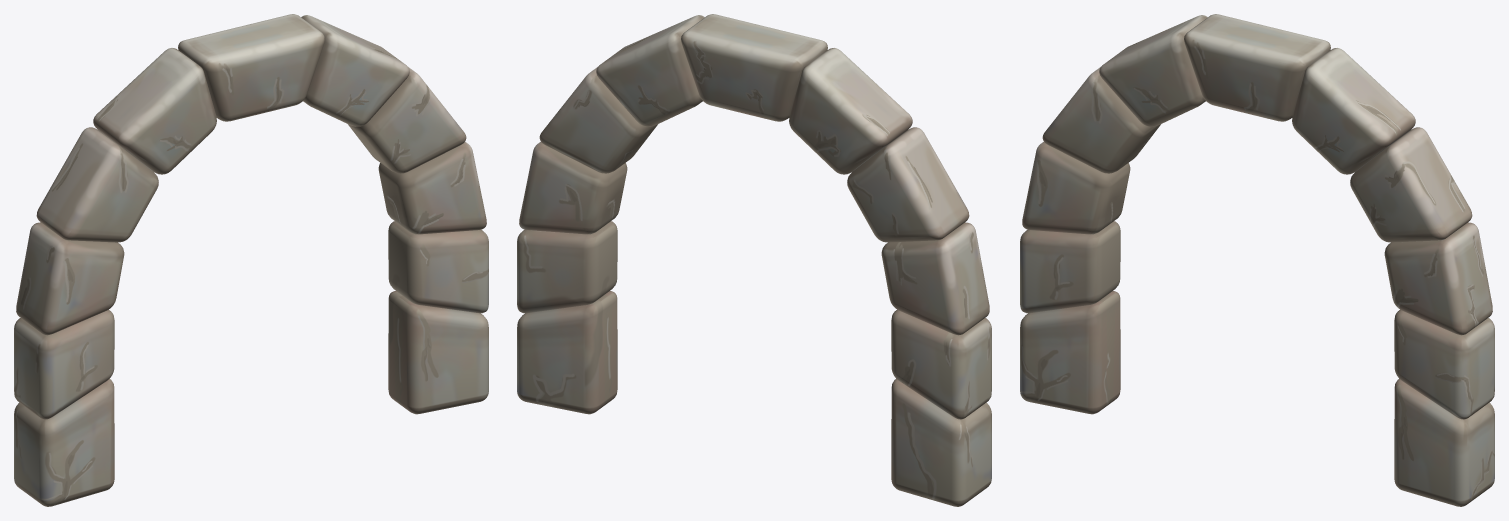
File: arc.glb
3 renders of one model, left to right at view 1: azimuth 30°, elevation 25°; view 2: azimuth 150°, elevation 25°; view 3: azimuth 330°, elevation 25°, orthographic.
Parts seen in each view (by area): view 1: arc.001; view 2: arc.001; view 3: arc.001.
Part boxes in pixels (<box>): arc.001: <box>14,14,488,506</box>; arc.001: <box>517,14,991,506</box>; arc.001: <box>1020,14,1494,506</box>.
Bounding box in the file's own units: 11 × 9.58 × 1.46.
1 material, 1 textured.
